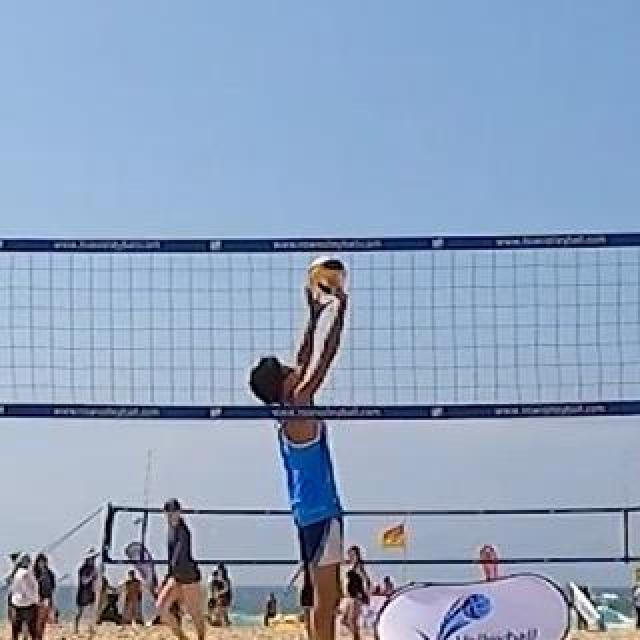volleyball: (311, 259, 345, 293)
